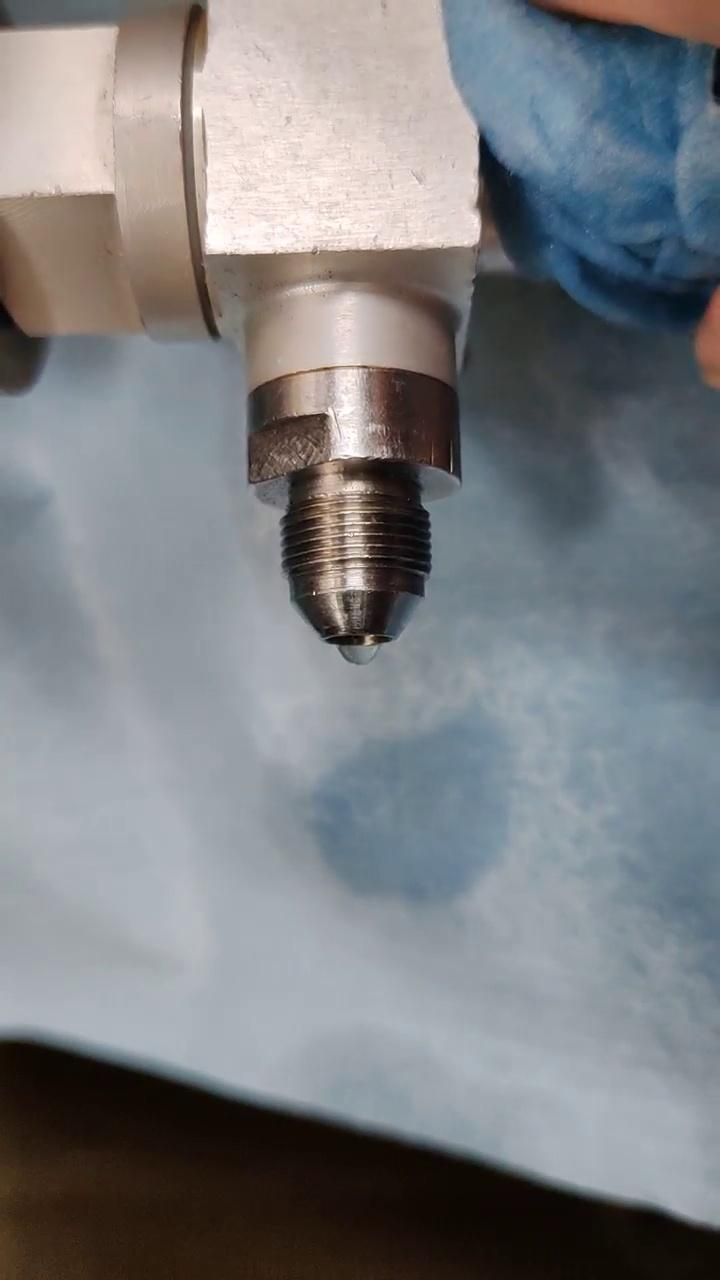water drop: (339, 642, 378, 666)
